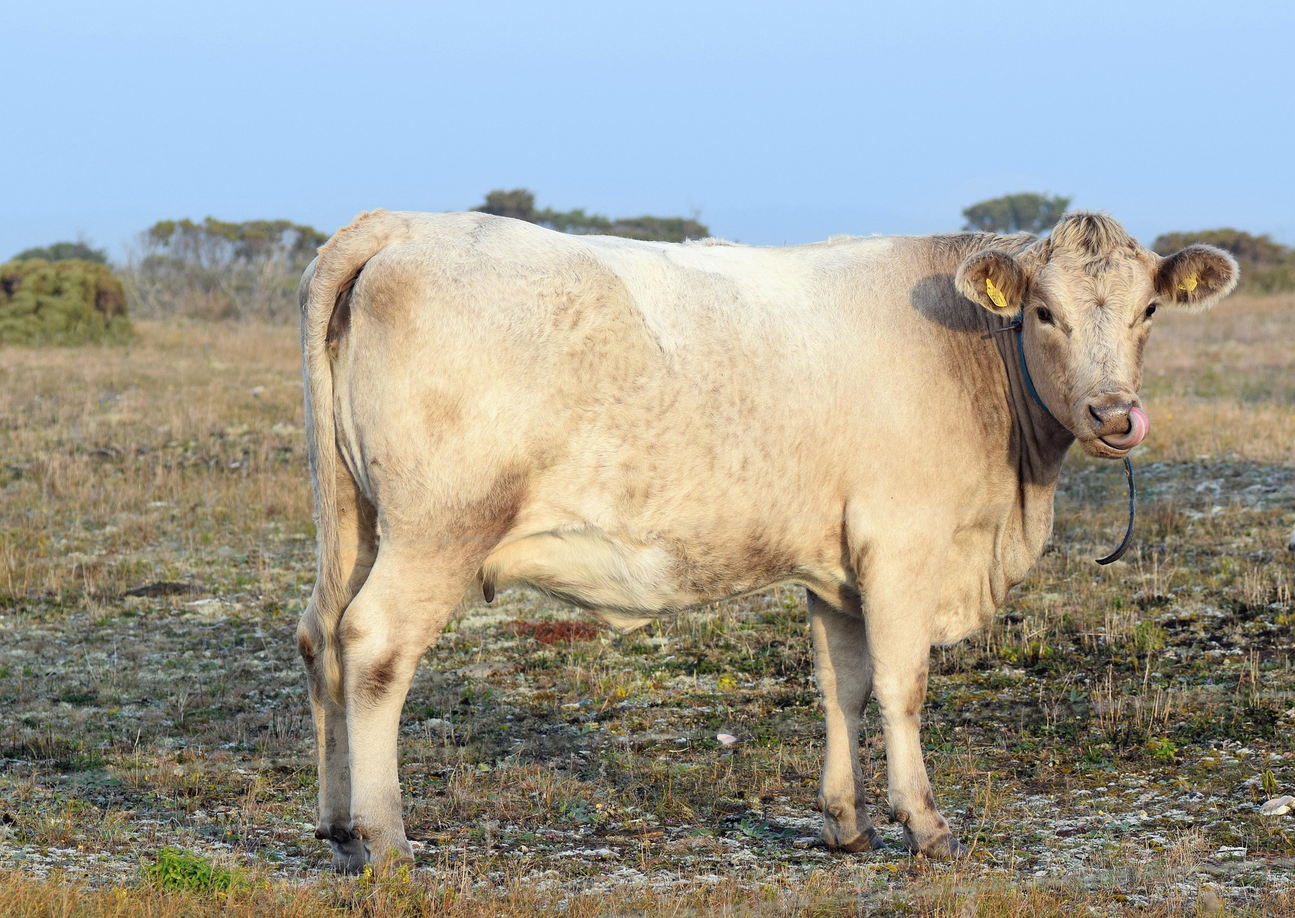bovino: (304, 206, 1239, 870)
